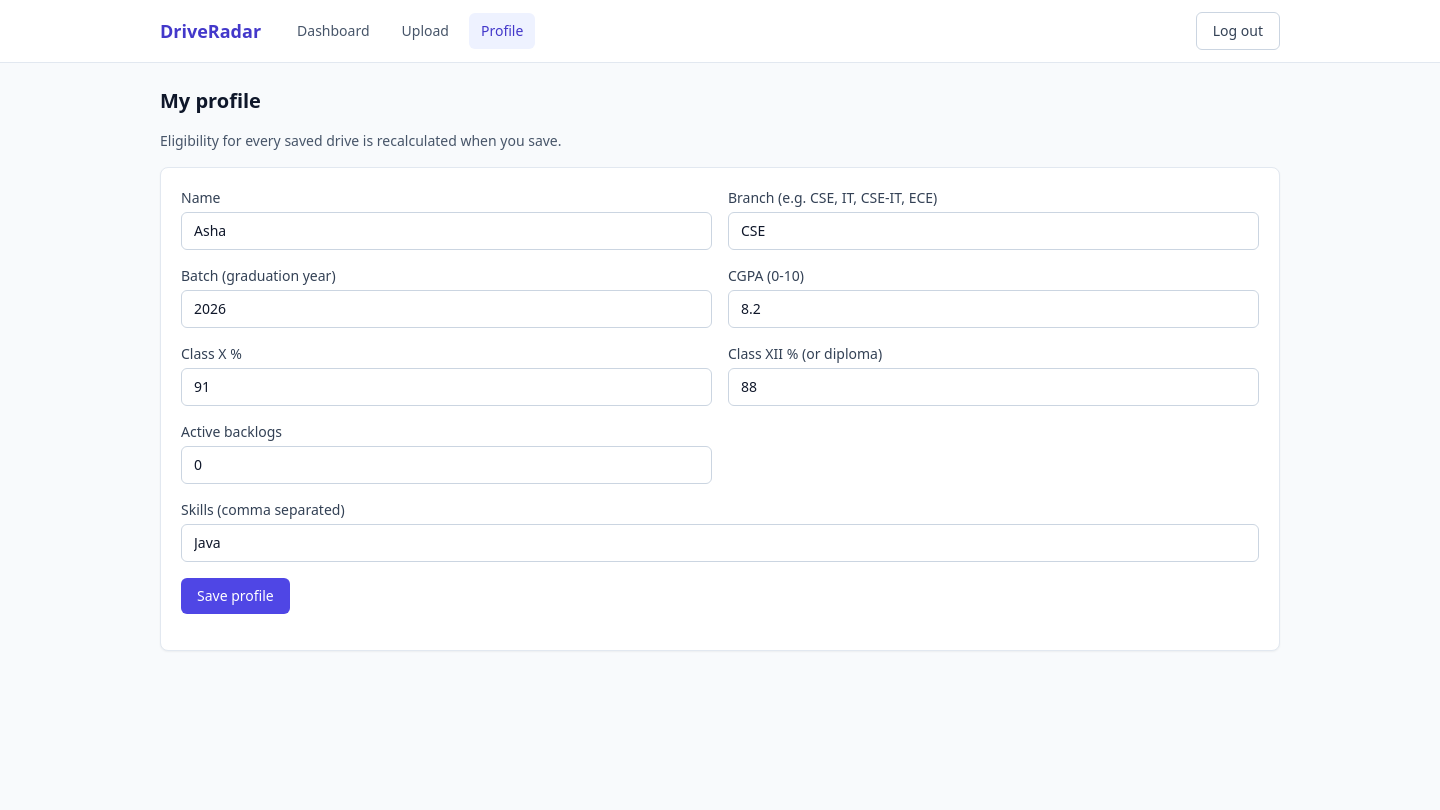
student flow › saves the profile
This screenshot has width=1440, height=810.
Replace the text in the field labelled "Skills (comma separated)" with "Java, SQL". click: (720, 543)
box: x1=181 y1=524 x2=1259 y2=562
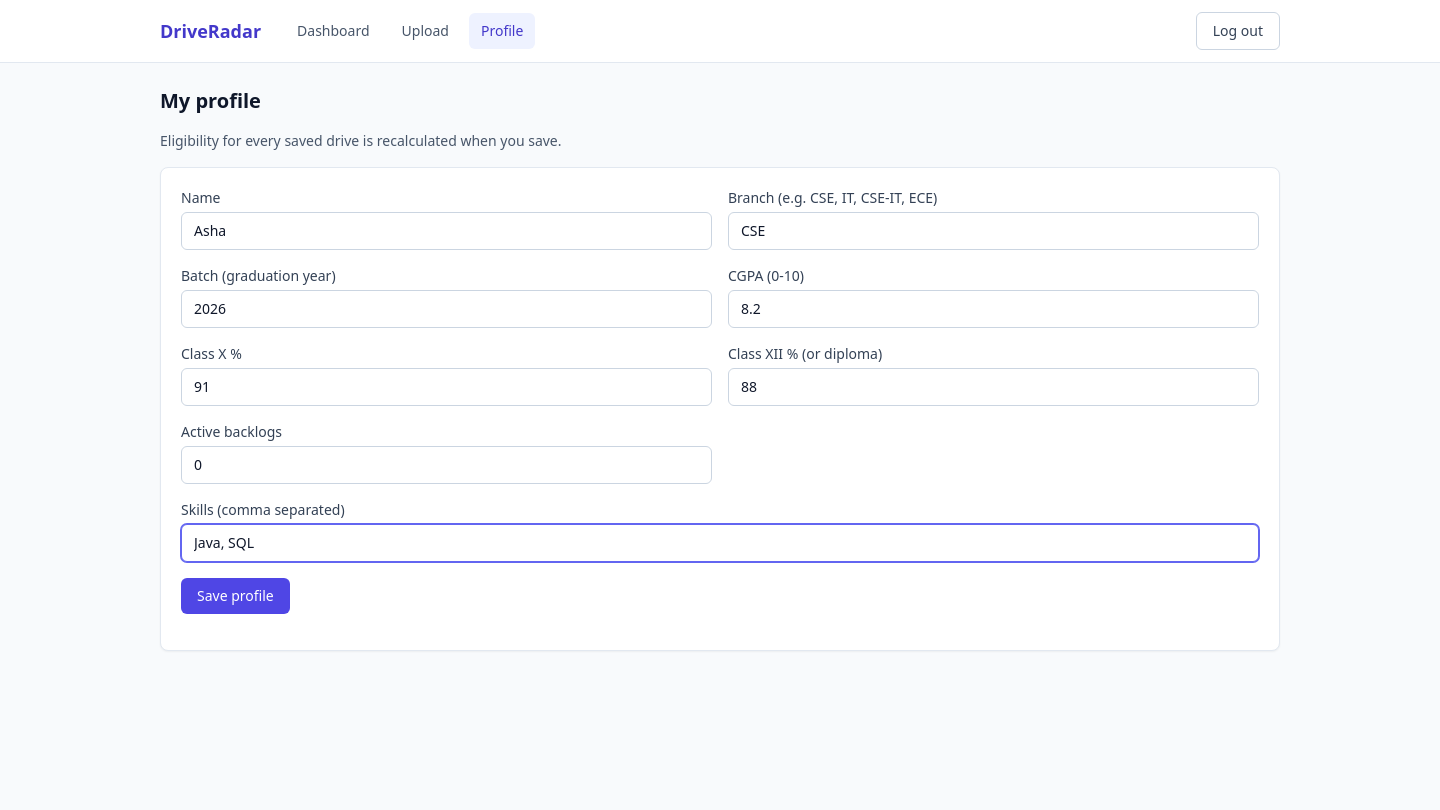
Click the button "Save profile". click: (235, 596)
box: x1=181 y1=578 x2=290 y2=614
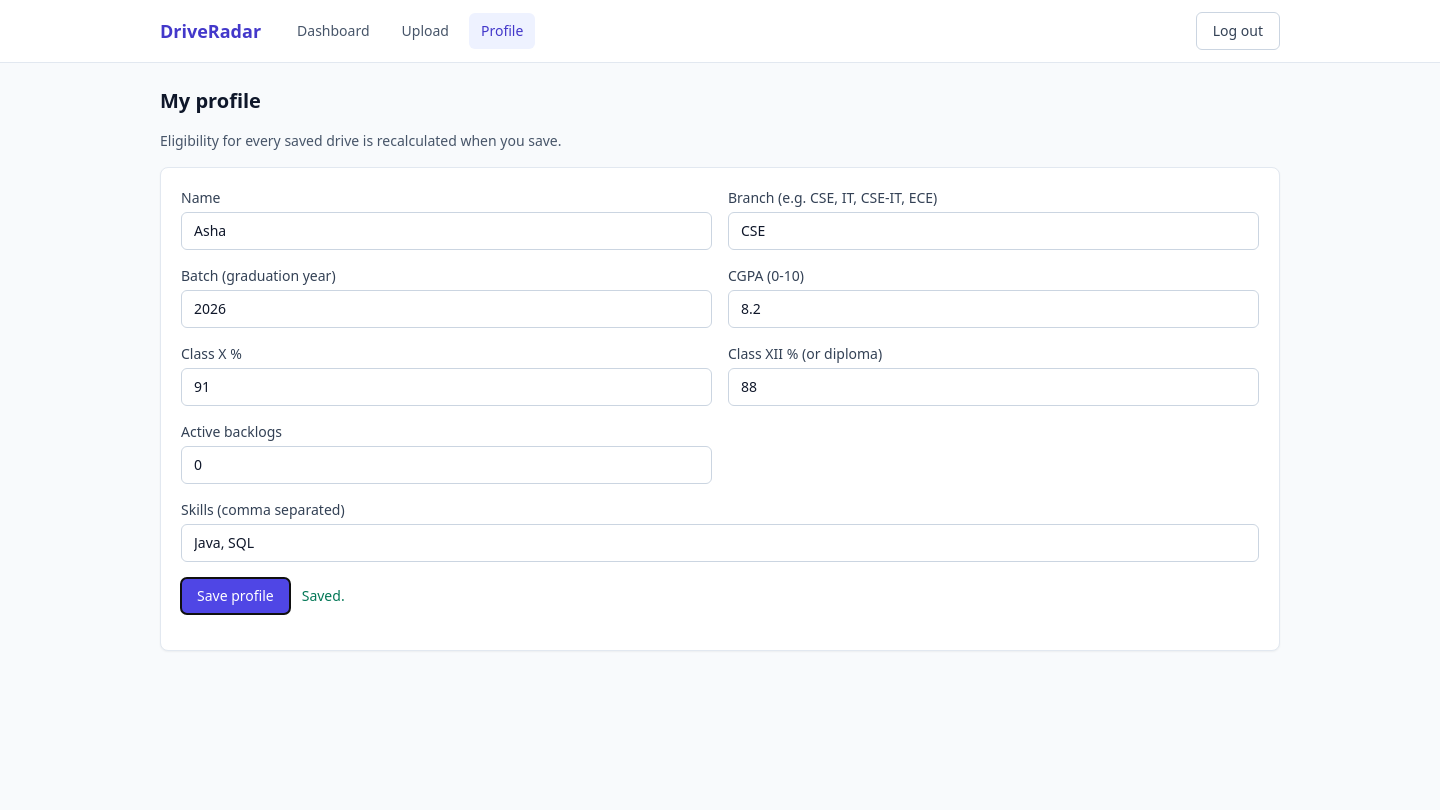
Check: the text "Saved." is shown, box x1=302 y1=586 x2=345 y2=606
